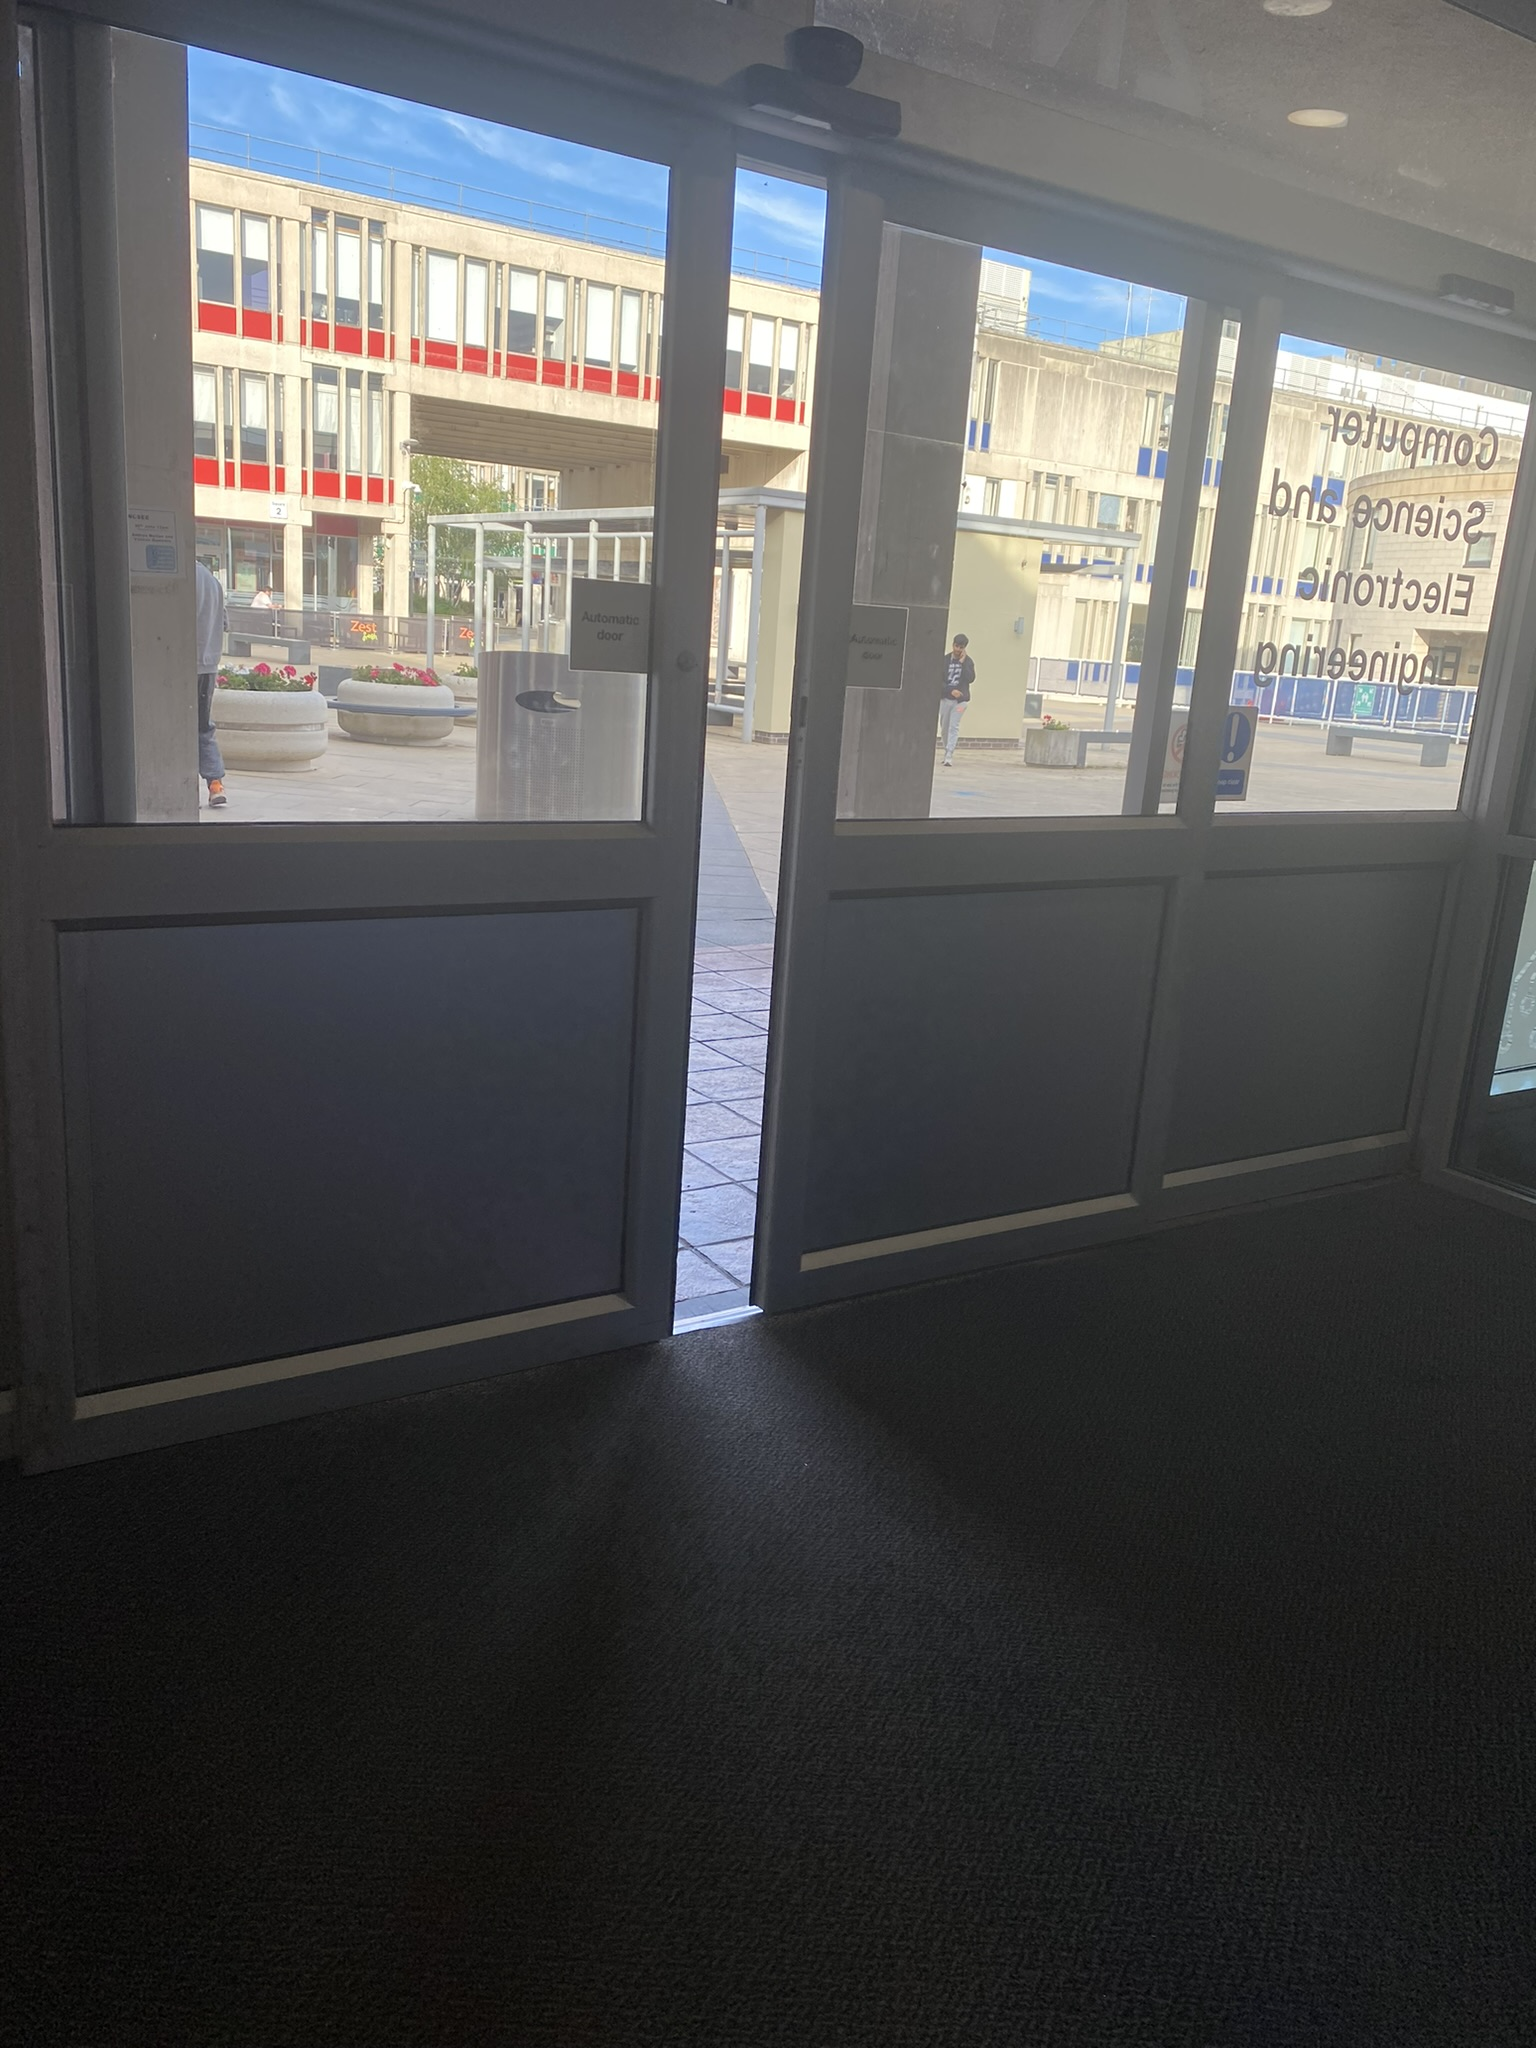automatic door: (105, 39, 1496, 1429)
